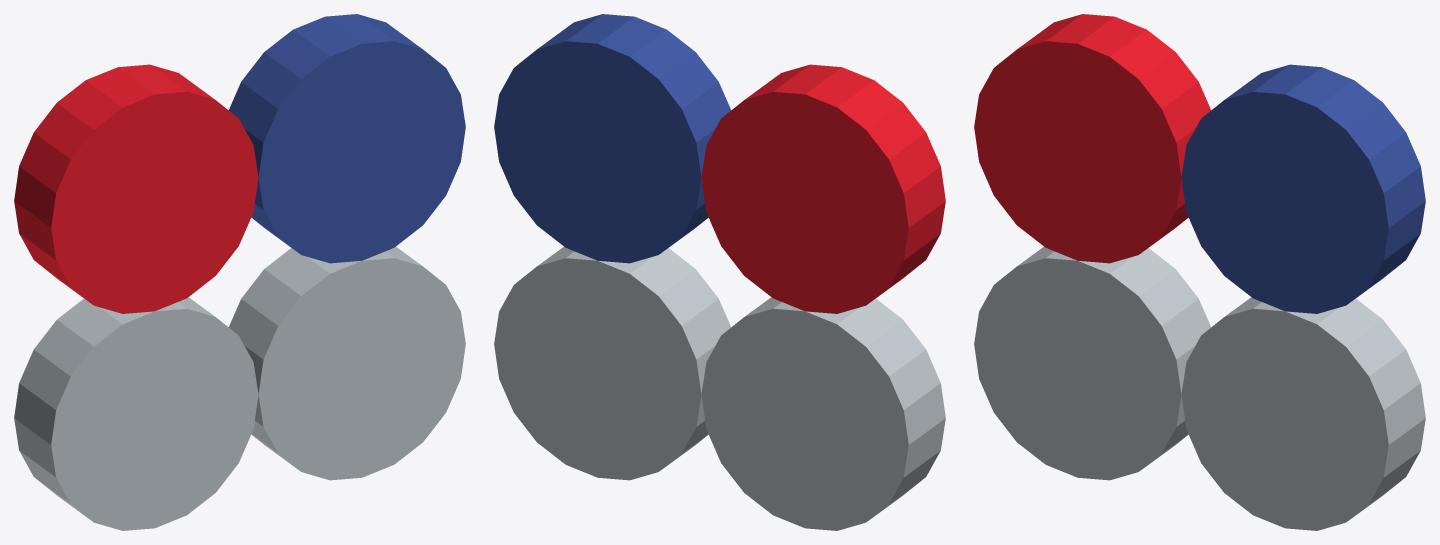
File: tinker.obj
3 views of the same model, side by side, from view 1: azimuth 30°, elevation 25°; view 2: azimuth 150°, elevation 25°; view 3: azimuth 330°, elevation 25° (orthographic).
Visible parts, largest first — view 1: group_0_12568524, group_0_15277357, group_0_3888547; view 2: group_0_12568524, group_0_15277357, group_0_3888547; view 3: group_0_12568524, group_0_3888547, group_0_15277357.
Boxes of the visible parts, x1,y1,x2,y2 form: group_0_12568524: (14,247,465,530); group_0_15277357: (14,64,258,313); group_0_3888547: (228,14,465,263); group_0_12568524: (494,247,945,530); group_0_15277357: (701,64,945,313); group_0_3888547: (494,14,731,263); group_0_12568524: (974,247,1425,530); group_0_3888547: (1181,64,1425,313); group_0_15277357: (974,14,1211,263).
Bounding box in the file's own units: 2 × 2 × 0.31.
